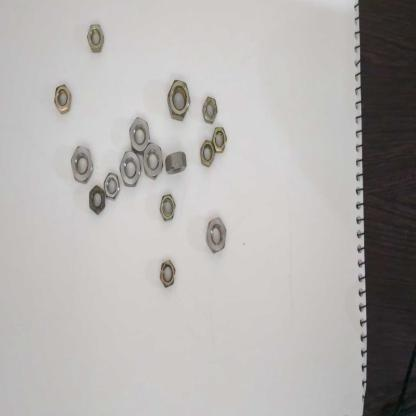NUTS: (116, 148, 144, 194), (166, 74, 191, 125), (69, 142, 95, 184), (141, 140, 165, 185), (205, 214, 228, 257), (128, 114, 152, 154), (162, 149, 190, 178), (51, 82, 73, 116), (86, 184, 108, 218), (86, 22, 106, 59), (201, 93, 221, 127), (158, 258, 178, 291), (100, 171, 122, 200), (210, 122, 228, 155), (160, 192, 178, 224), (200, 140, 215, 168)
